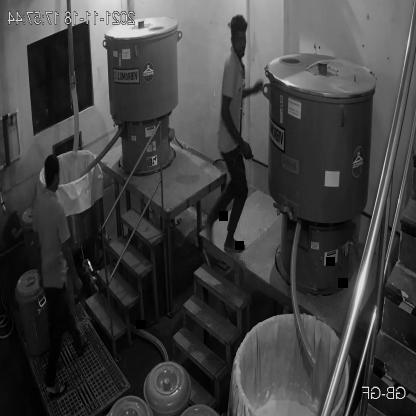no_glove: (218, 94, 254, 164), (56, 233, 88, 298)
no_shoes: (223, 233, 249, 256), (46, 378, 66, 400)
